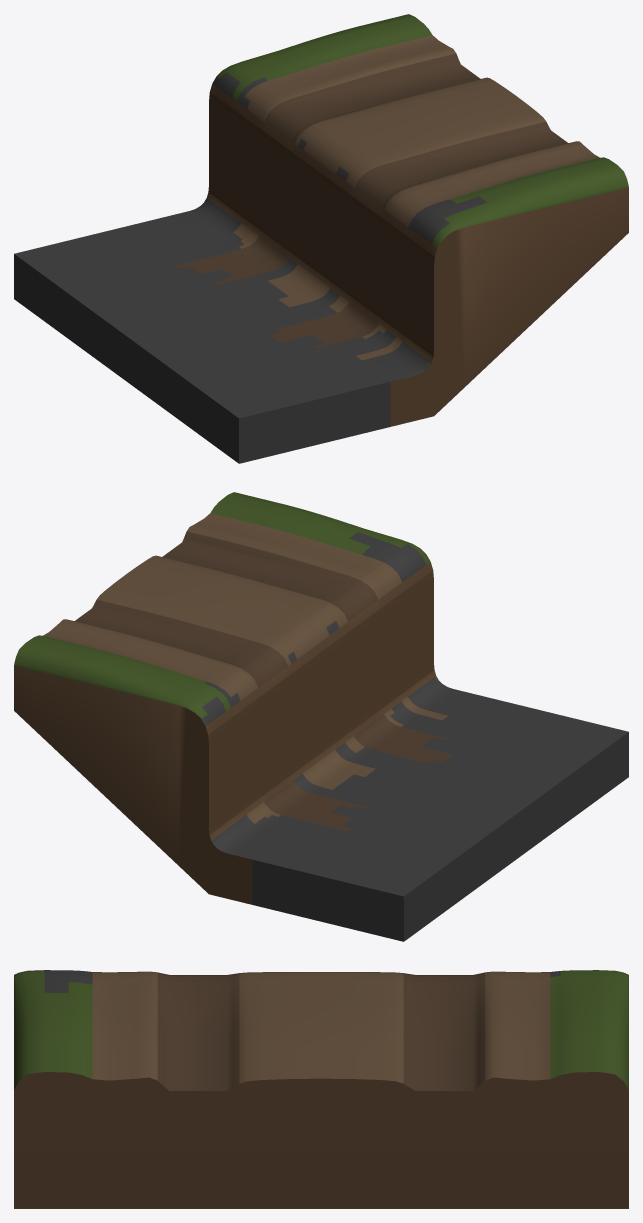
3 renders of one model, top to bottom at view 1: azimuth 30°, elevation 25°; view 2: azimuth 150°, elevation 25°; view 3: azimuth 270°, elevation 25°, orthographic. The views are drawn at different scales.
Visible parts, largest first — view 1: k3u; view 2: k3u; view 3: k3u.
Boxes of the visible parts, box(x1,y1,x2,y2) form: k3u: box(14, 14, 628, 463); k3u: box(14, 492, 628, 941); k3u: box(14, 970, 628, 1208).
Size of the model in its own units: 9 by 4.31 by 9.
